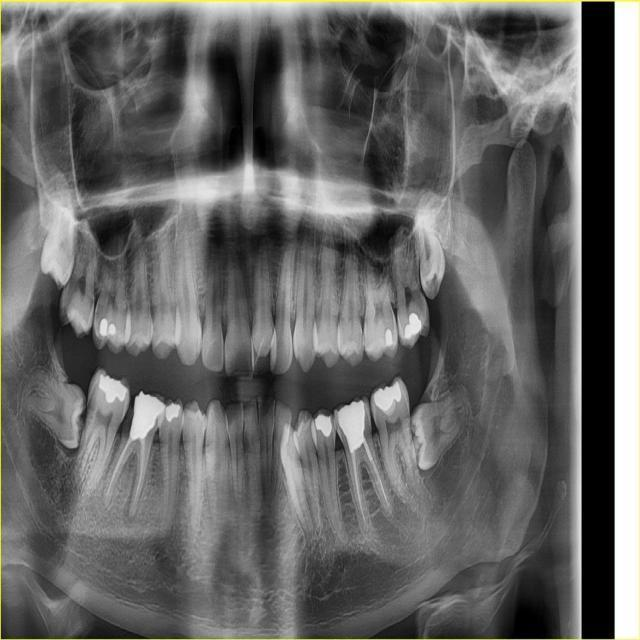Caries: (122, 402, 134, 437)
Filling: (130, 391, 163, 441), (338, 400, 365, 451), (98, 375, 127, 403), (374, 382, 402, 409), (403, 313, 421, 339), (315, 413, 331, 436), (166, 401, 180, 422), (385, 329, 394, 347), (100, 317, 107, 337), (107, 325, 116, 337)
Periapical lesion: (122, 474, 144, 524)
Root Canal Treatment: (364, 439, 390, 512), (107, 437, 133, 493), (351, 450, 366, 524), (131, 436, 145, 513)
impacted tooth: (407, 380, 470, 469), (17, 364, 84, 447), (40, 178, 77, 285), (412, 206, 445, 294)
